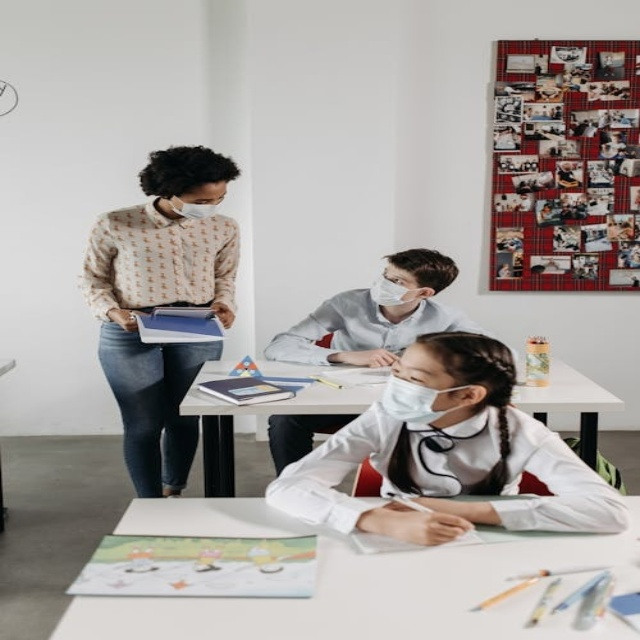Mascara: (380, 376, 474, 424), (370, 272, 427, 305), (168, 194, 222, 220)
Sin_gafas: (385, 356, 439, 385), (380, 264, 421, 288), (177, 188, 229, 204)
Sin_guantes: (392, 505, 476, 551), (344, 343, 398, 369), (204, 298, 241, 331)
